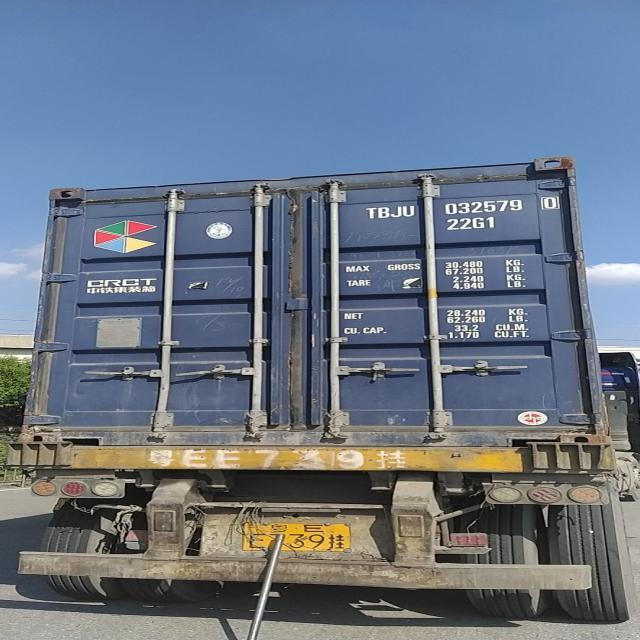ISO: (449, 216, 497, 234)
container_number: (373, 200, 567, 216)
